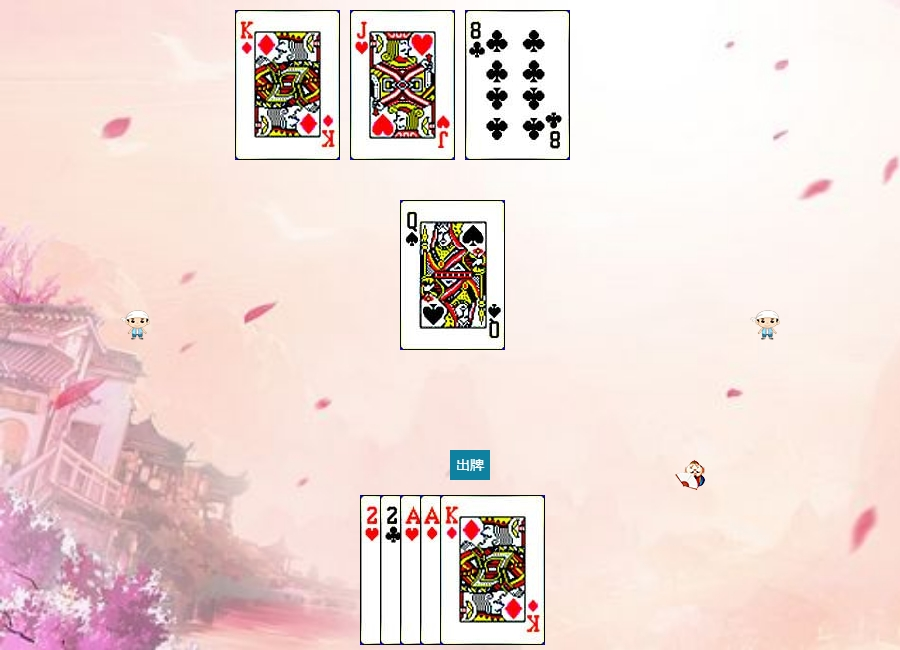11~3: (350, 10, 455, 160)
12~4: (400, 200, 505, 350)
13~1: (235, 10, 340, 160), (440, 495, 545, 645)
14~1: (420, 495, 525, 645)
14~3: (400, 495, 505, 645)
15~2: (380, 495, 485, 645)
15~3: (360, 495, 465, 645)
8~2: (465, 10, 570, 160)
